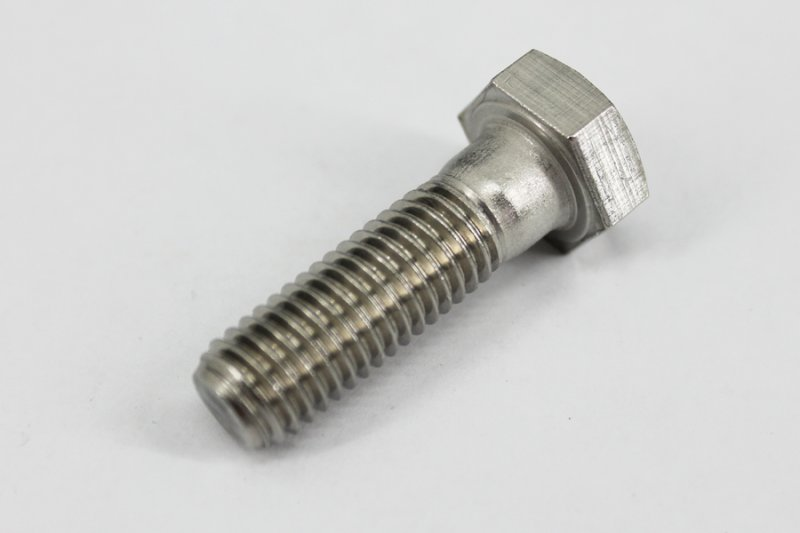screw: (190, 46, 650, 453)
